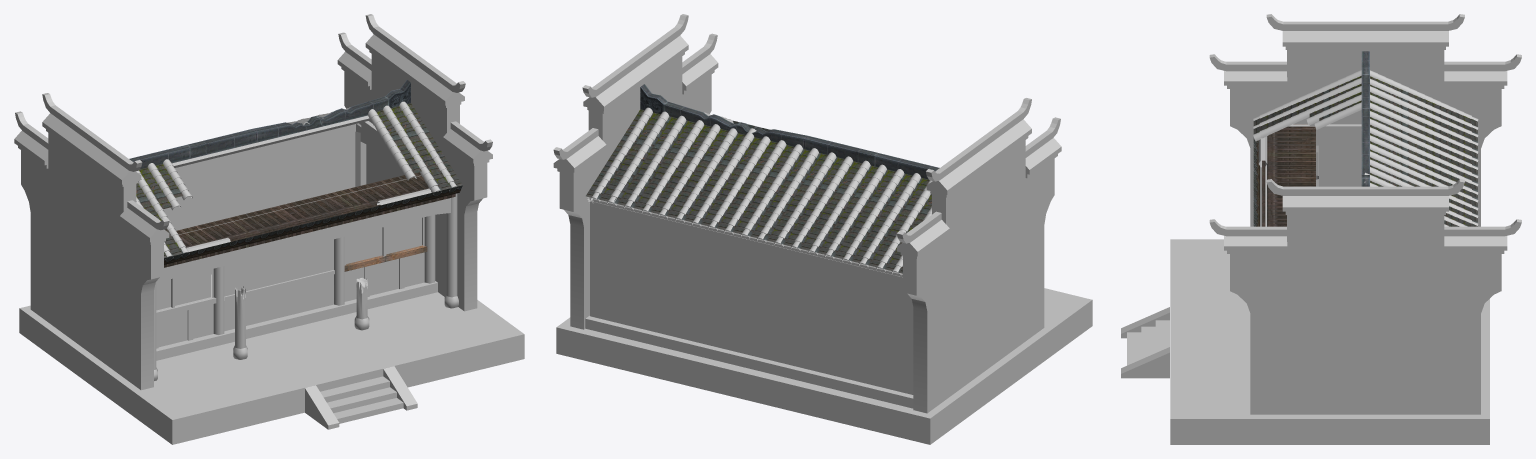
File: 破损整合.fbx
3 renders of one model, left to right at view 1: azimuth 30°, elevation 25°; view 2: azimuth 150°, elevation 25°; view 3: azimuth 270°, elevation 25°, orthographic. The views are drawn at different scales.
Parts seen in each view (by area): view 1: Box092, Box001, Box162, 对象016, Box226, 对象020, 瓦, 顶部, 对象024, 对象022, 柱子破损04, 柱子破损02 (+1 smaller); view 2: Box162, Box001, 对象023, Box092, Box226, 顶部, 对象016; view 3: Box226, Box092, Box001, 对象023, 对象016, 瓦, 顶部, 对象024.
Boxes of the visible parts, left/top/right/bottom form: Box092: left=19, top=274, right=524, bottom=444; Box001: left=14, top=93, right=169, bottom=390; Box162: left=156, top=123, right=437, bottom=360; 对象016: left=156, top=115, right=455, bottom=334; Box226: left=337, top=14, right=492, bottom=311; 对象020: left=224, top=239, right=334, bottom=331; 瓦: left=136, top=101, right=462, bottom=259; 顶部: left=129, top=80, right=410, bottom=168; 对象024: left=164, top=185, right=462, bottom=264; 对象022: left=243, top=219, right=362, bottom=261; 柱子破损04: left=444, top=193, right=458, bottom=308; 柱子破损02: left=233, top=286, right=247, bottom=359; Box162: left=585, top=201, right=913, bottom=408; Box001: left=896, top=98, right=1061, bottom=413; 对象023: left=586, top=107, right=932, bottom=275; Box092: left=556, top=288, right=1092, bottom=444; Box226: left=553, top=14, right=718, bottom=329; 顶部: left=640, top=84, right=939, bottom=179; 对象016: left=586, top=196, right=902, bottom=276; Box226: left=1209, top=179, right=1521, bottom=414; Box092: left=1121, top=239, right=1489, bottom=444; Box001: left=1209, top=14, right=1521, bottom=226; 对象023: left=1364, top=70, right=1478, bottom=226; 对象016: left=1258, top=123, right=1361, bottom=226; 瓦: left=1253, top=70, right=1361, bottom=141; 顶部: left=1361, top=51, right=1369, bottom=186; 对象024: left=1253, top=137, right=1259, bottom=226.
Size of the model in its own units: 271 by 180 by 255.
